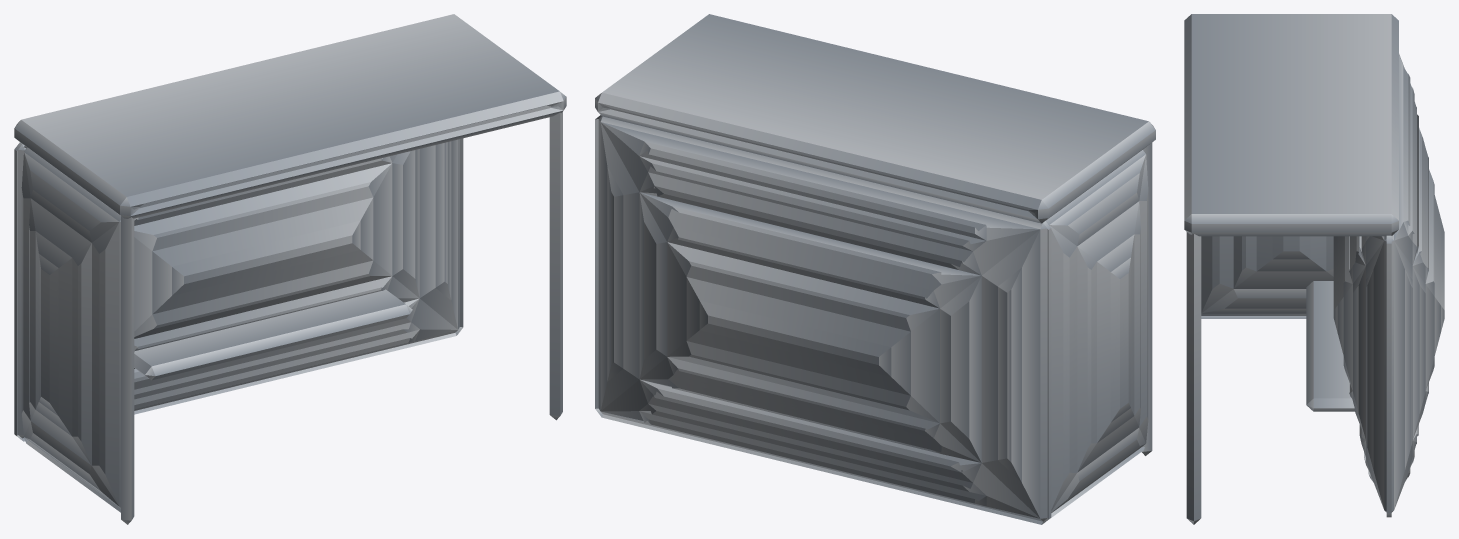
File: dt_bus_shelter.fbx
3 views of the same model, side by side, from view 1: azimuth 30°, elevation 25°; view 2: azimuth 150°, elevation 25°; view 3: azimuth 270°, elevation 25° (orthographic). The views are drawn at different scales.
Parts seen in each view (by area): view 1: dt_bus_shelter; view 2: dt_bus_shelter; view 3: dt_bus_shelter.
Part boxes in pixels (x1,y1,x2,y2): dt_bus_shelter: (14,14,566,524); dt_bus_shelter: (595,14,1155,524); dt_bus_shelter: (1184,14,1444,524).
Bounding box in the file's own units: 1000 × 672 × 509.
